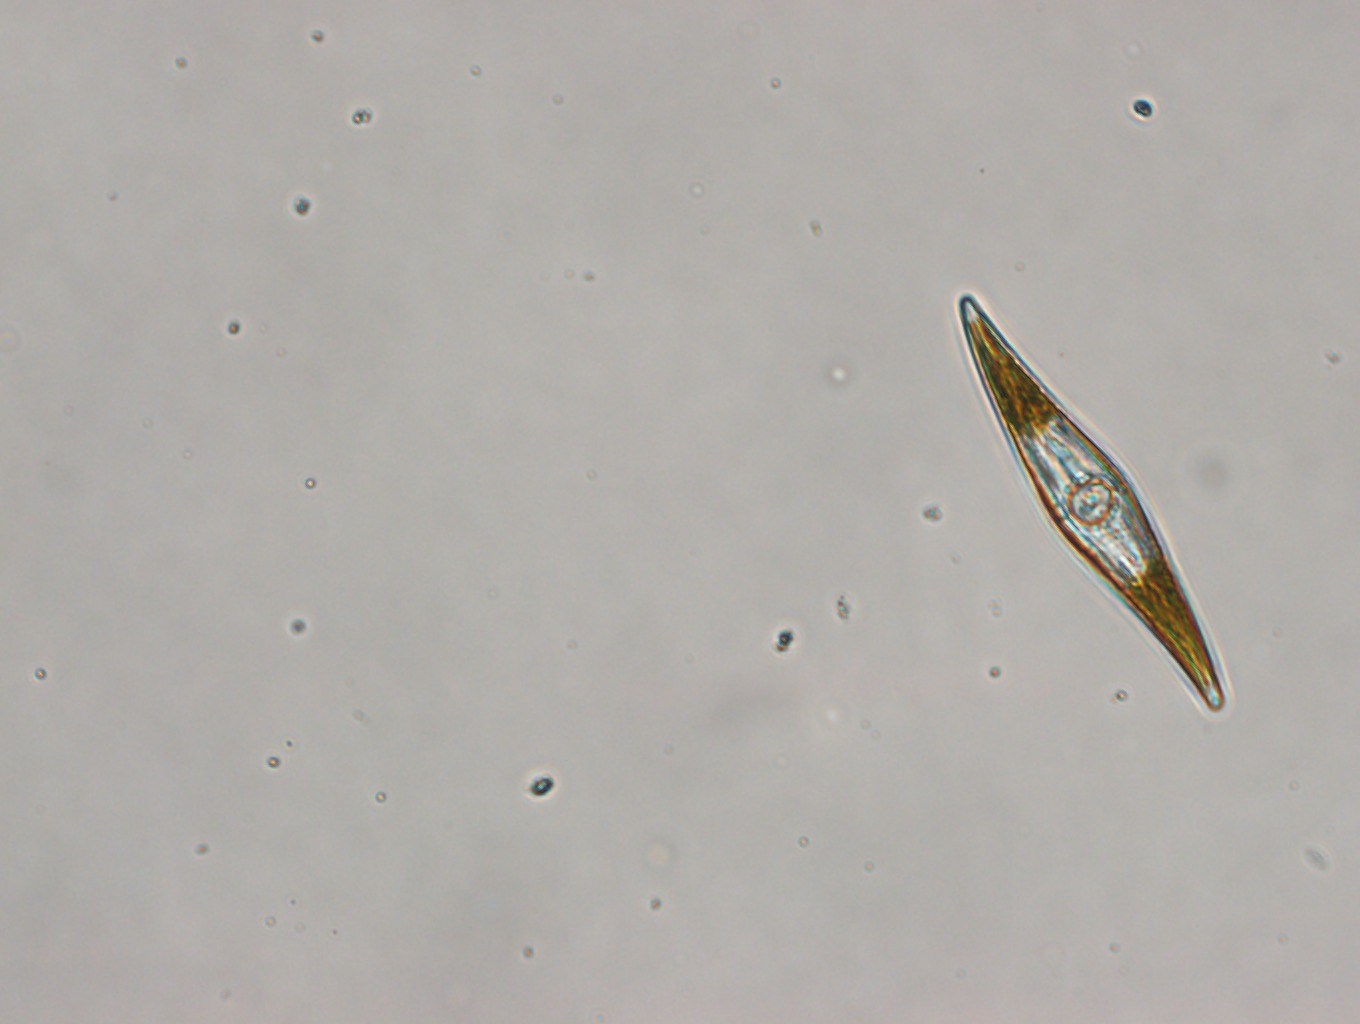pleurosigma pelagicum: (956, 288, 1226, 715)
